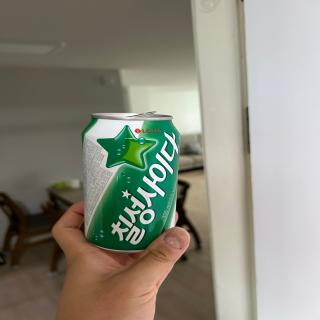chilsung: (79, 109, 181, 257)
